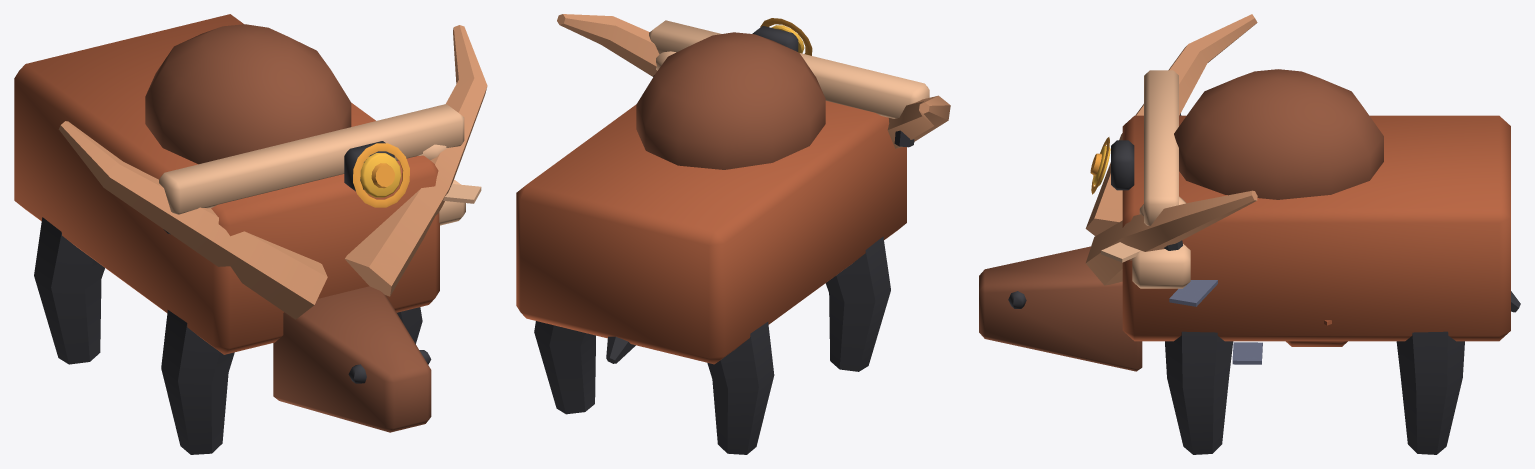
Rendered from yoke_ox.glb.
3 views of the same model, side by side, from view 1: azimuth 30°, elevation 25°; view 2: azimuth 150°, elevation 25°; view 3: azimuth 270°, elevation 25° (orthographic). The views are drawn at different scales.
Parts seen in each view (by area): view 1: YokeOx; view 2: YokeOx; view 3: YokeOx.
Part boxes in pixels (x1,y1,x2,y2): YokeOx: (14,14,487,454); YokeOx: (516,14,950,454); YokeOx: (979,14,1520,454).
Bounding box in the file's own units: 3.54 × 3 × 4.47.
1 material, 1 textured.
